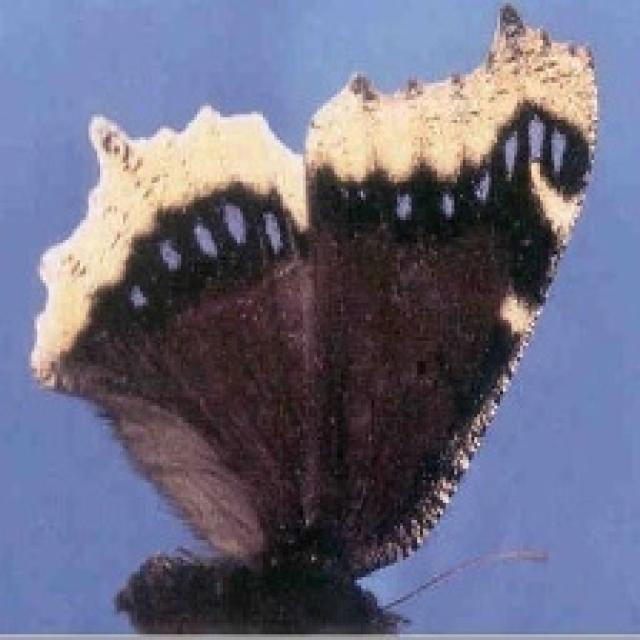butterfly: (25, 0, 600, 631)
